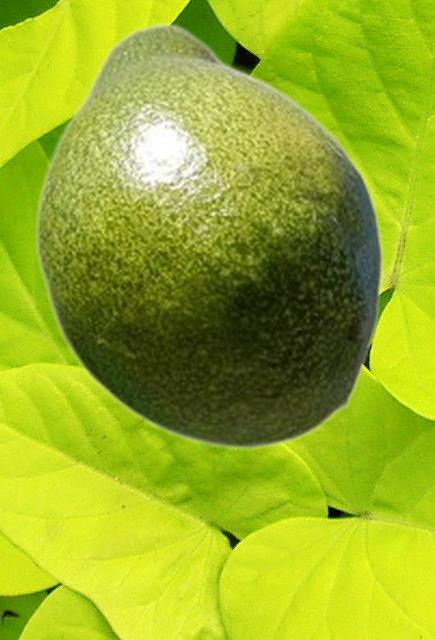avocado: (33, 22, 383, 451)
